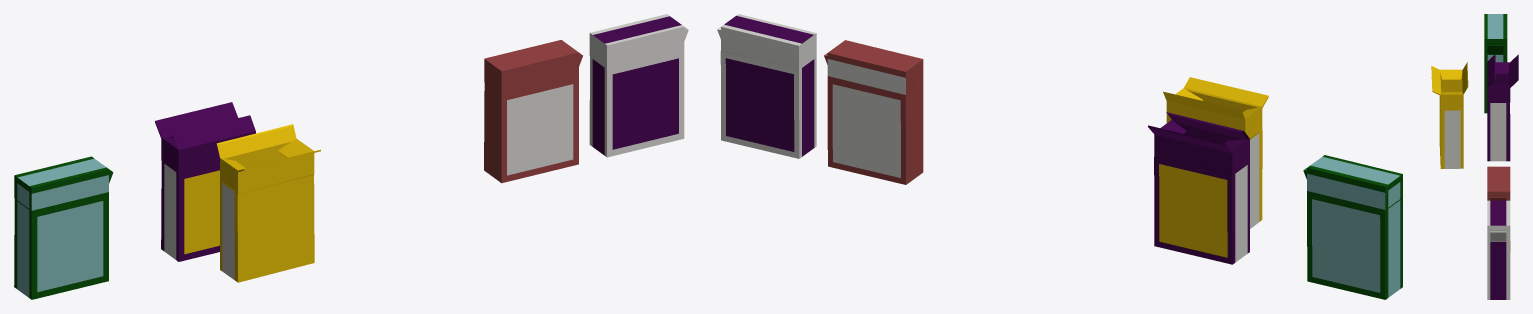
Rendered from BoxedGoods.fbx.
The picture shows the model from 3 angles, left to right: view 1: azimuth 30°, elevation 25°; view 2: azimuth 150°, elevation 25°; view 3: azimuth 270°, elevation 25°; orthographic projection. The views are drawn at different scales.
Visible parts, largest first — view 1: BoxedFood2, BoxedFood1, BoxedFood3, BoxedFood, BoxedFood4; view 2: BoxedFood4, BoxedFood, BoxedFood1, BoxedFood3, BoxedFood2; view 3: BoxedFood2, BoxedFood4, BoxedFood1, BoxedFood3, BoxedFood.
Part boxes in pixels (<box>): BoxedFood2: <box>216,124,320,282</box>; BoxedFood1: <box>589,14,688,157</box>; BoxedFood3: <box>14,156,113,299</box>; BoxedFood: <box>484,40,582,183</box>; BoxedFood4: <box>155,102,255,261</box>; BoxedFood4: <box>1148,112,1249,264</box>; BoxedFood: <box>824,40,923,184</box>; BoxedFood1: <box>717,14,816,158</box>; BoxedFood3: <box>1303,155,1402,299</box>; BoxedFood2: <box>1163,77,1268,228</box>; BoxedFood2: <box>1431,62,1468,168</box>; BoxedFood4: <box>1487,54,1518,161</box>; BoxedFood1: <box>1487,200,1510,299</box>; BoxedFood3: <box>1484,14,1507,113</box>; BoxedFood: <box>1487,166,1510,252</box>.
Size of the model in its own units: 2.28 by 0.4087 by 0.3927.
